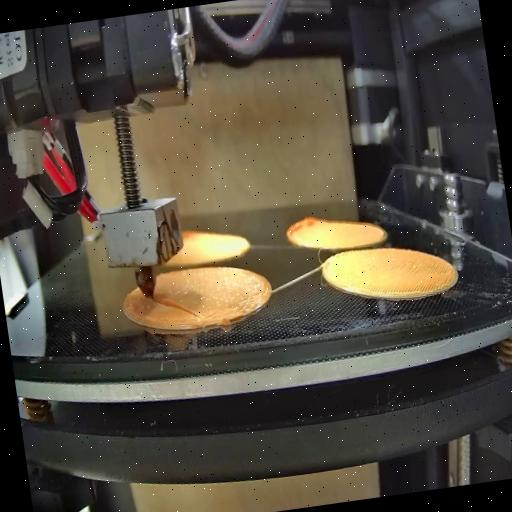over_extrusion: (150, 288, 201, 327), (282, 212, 324, 250)
